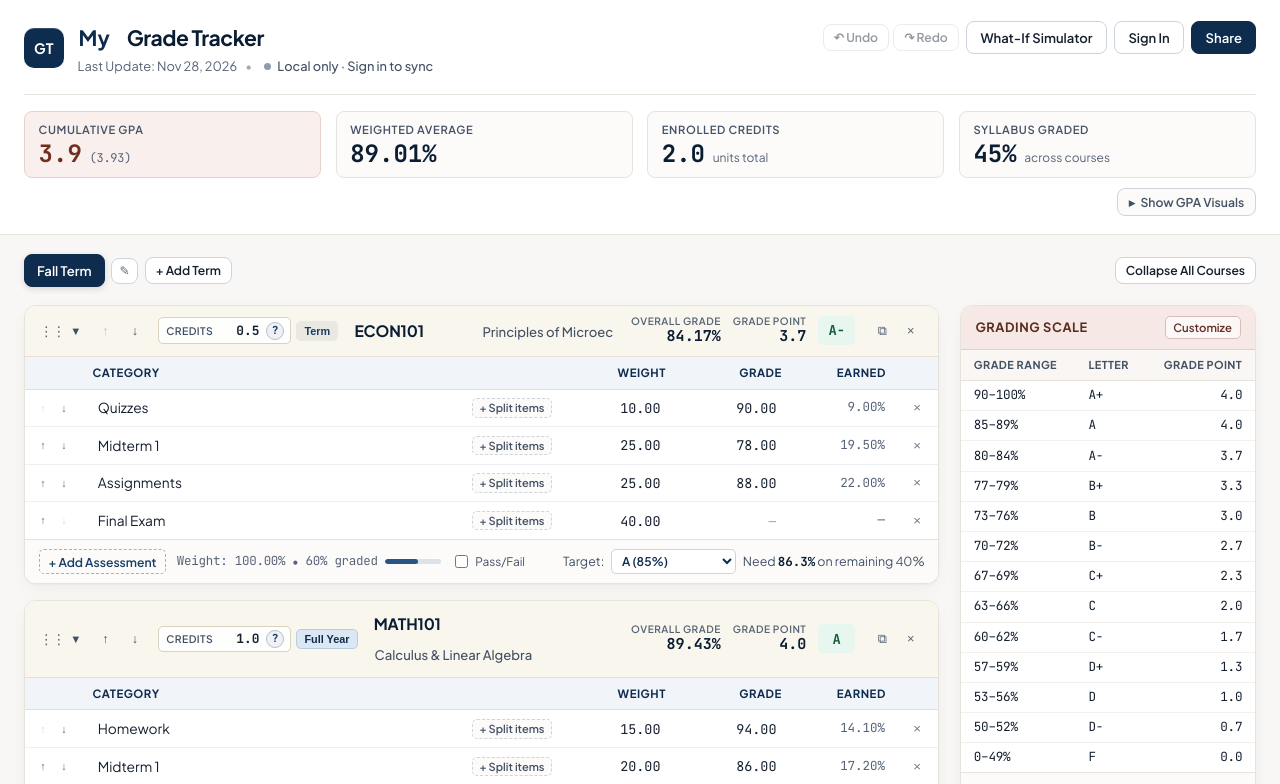
Scenario: Grade Tracker React Application (M1 + M1.1 + Firebase Cloud Sync) › requires modal confirmation for Course & Term deletes and supports full Undo + Redo
The image size is (1280, 784).
Later steps or results of the test are not shown.
Check: the button "↶ Undo" is disabled, box [823,24,889,51]
Check: the button "↷ Redo" is disabled, box [893,24,959,51]
Click the button named "Delete ECON101": (911, 331) [898,318,924,344]
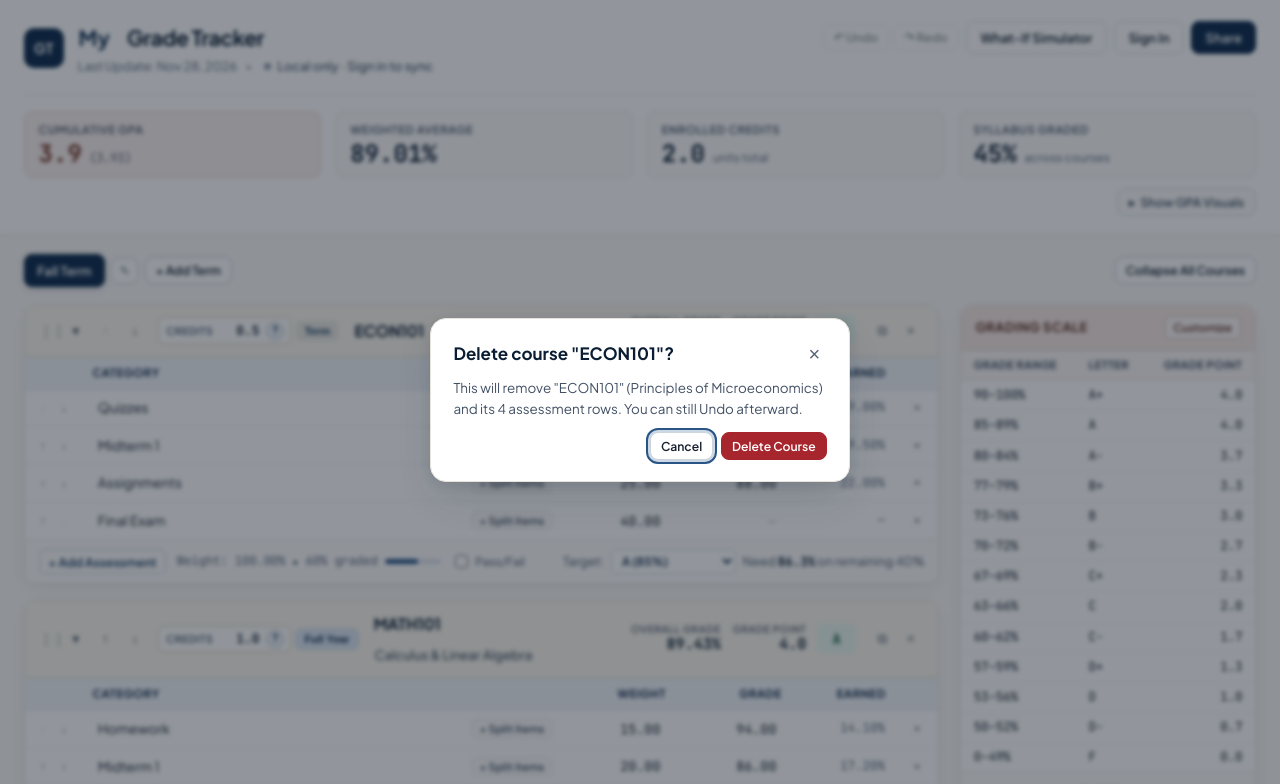
Check: the heading "Delete course \"ECON101\"?" is shown, box [453,341,674,367]
Click the button "Cancel": (682, 446) [650,432,713,460]
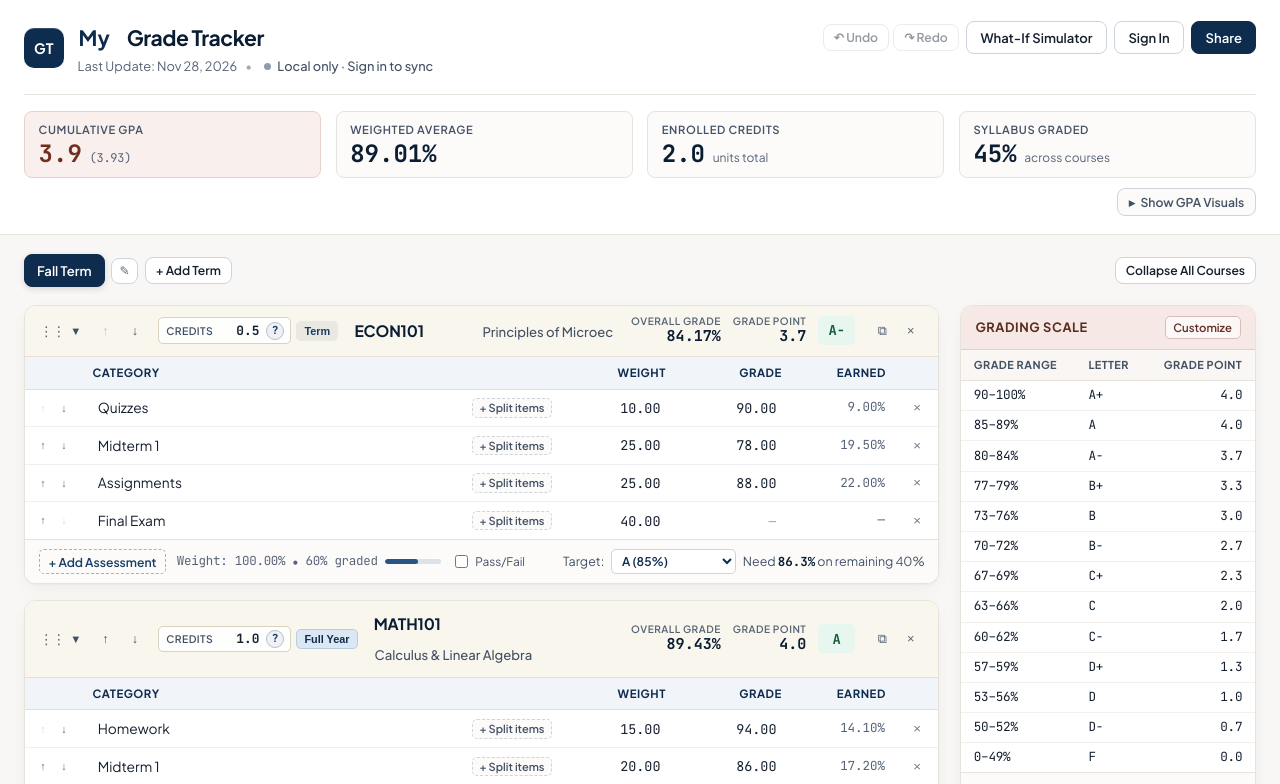
Check: the field showing "ECON101" in the row of "84.17%" is shown, box [349,318,469,343]
Click the button named "Delete ECON101": (911, 331) [898,318,924,344]
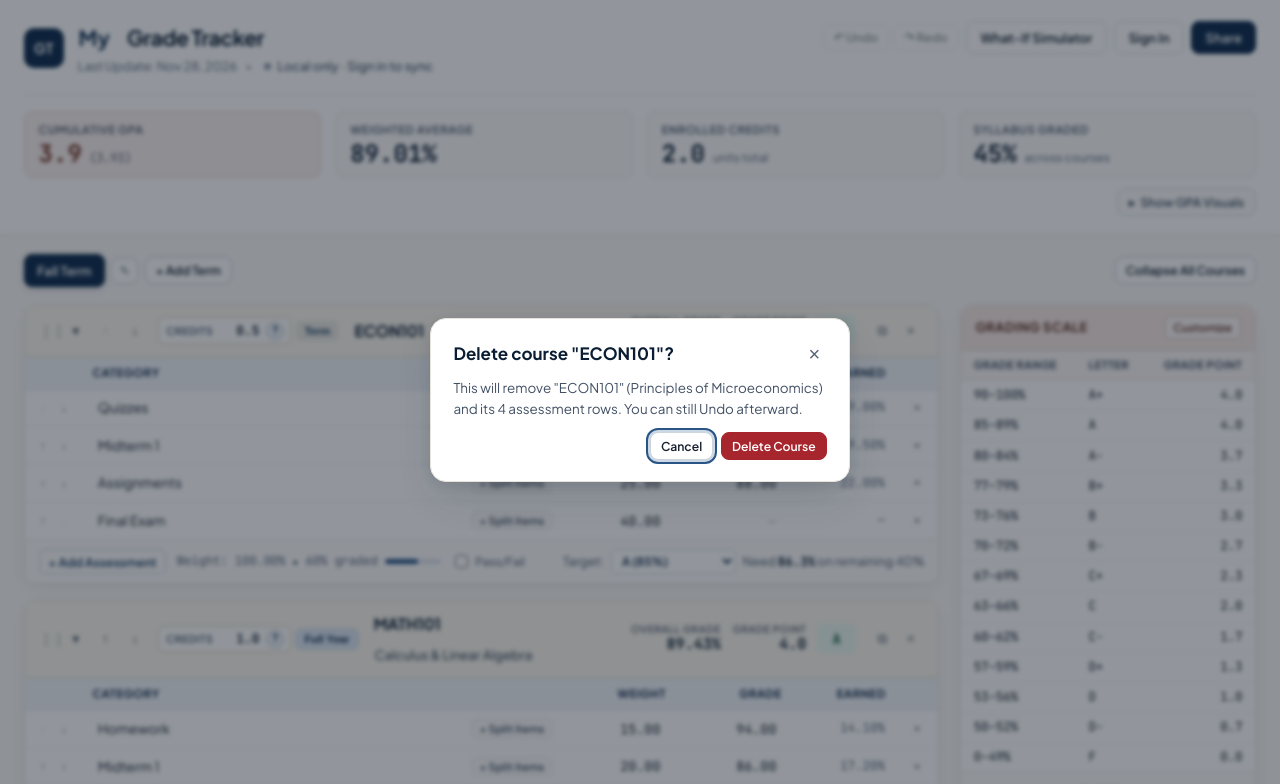
Click the button "Delete Course": (774, 446) [721,432,827,460]
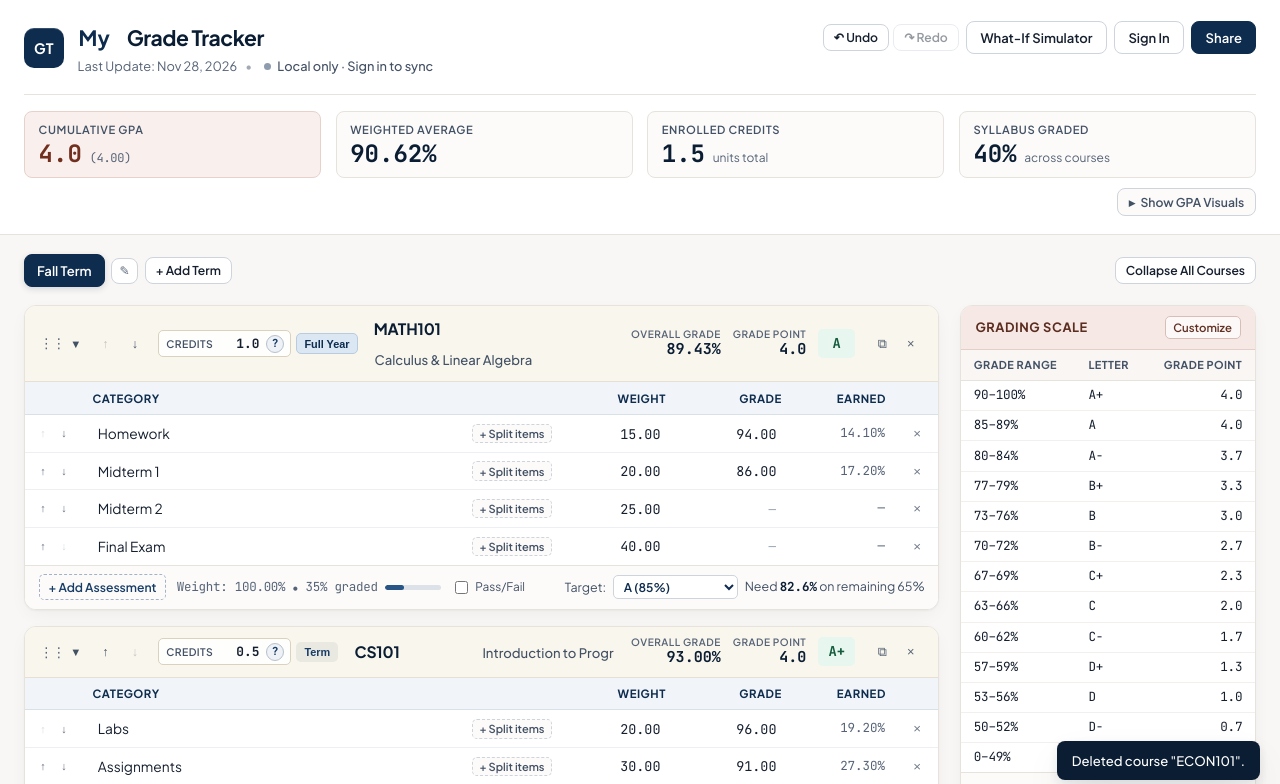
Check: the button "↶ Undo" is enabled
Click the button "↶ Undo": (856, 38) [823,24,889,51]
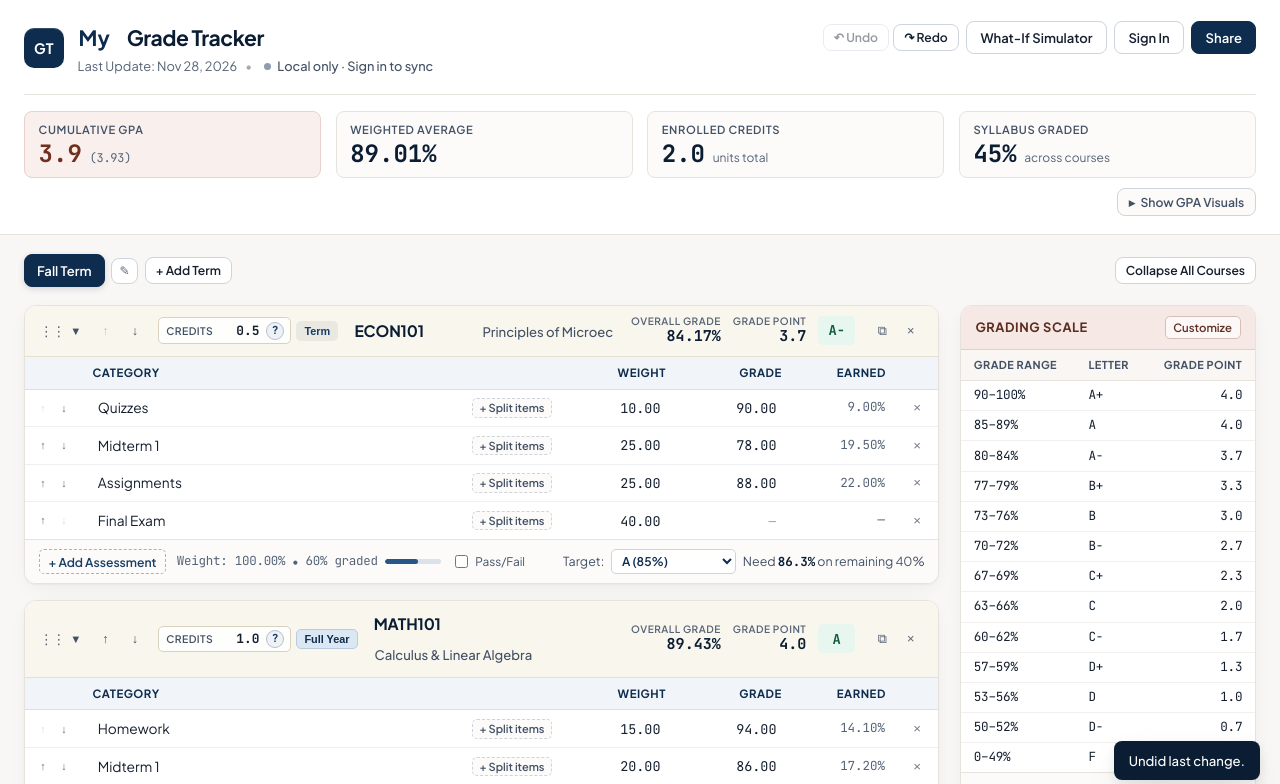
Check: the field showing "ECON101" in the row of "84.17%" is shown, box [349,318,469,343]
Check: the button "↷ Redo" is enabled, box [893,24,959,51]
